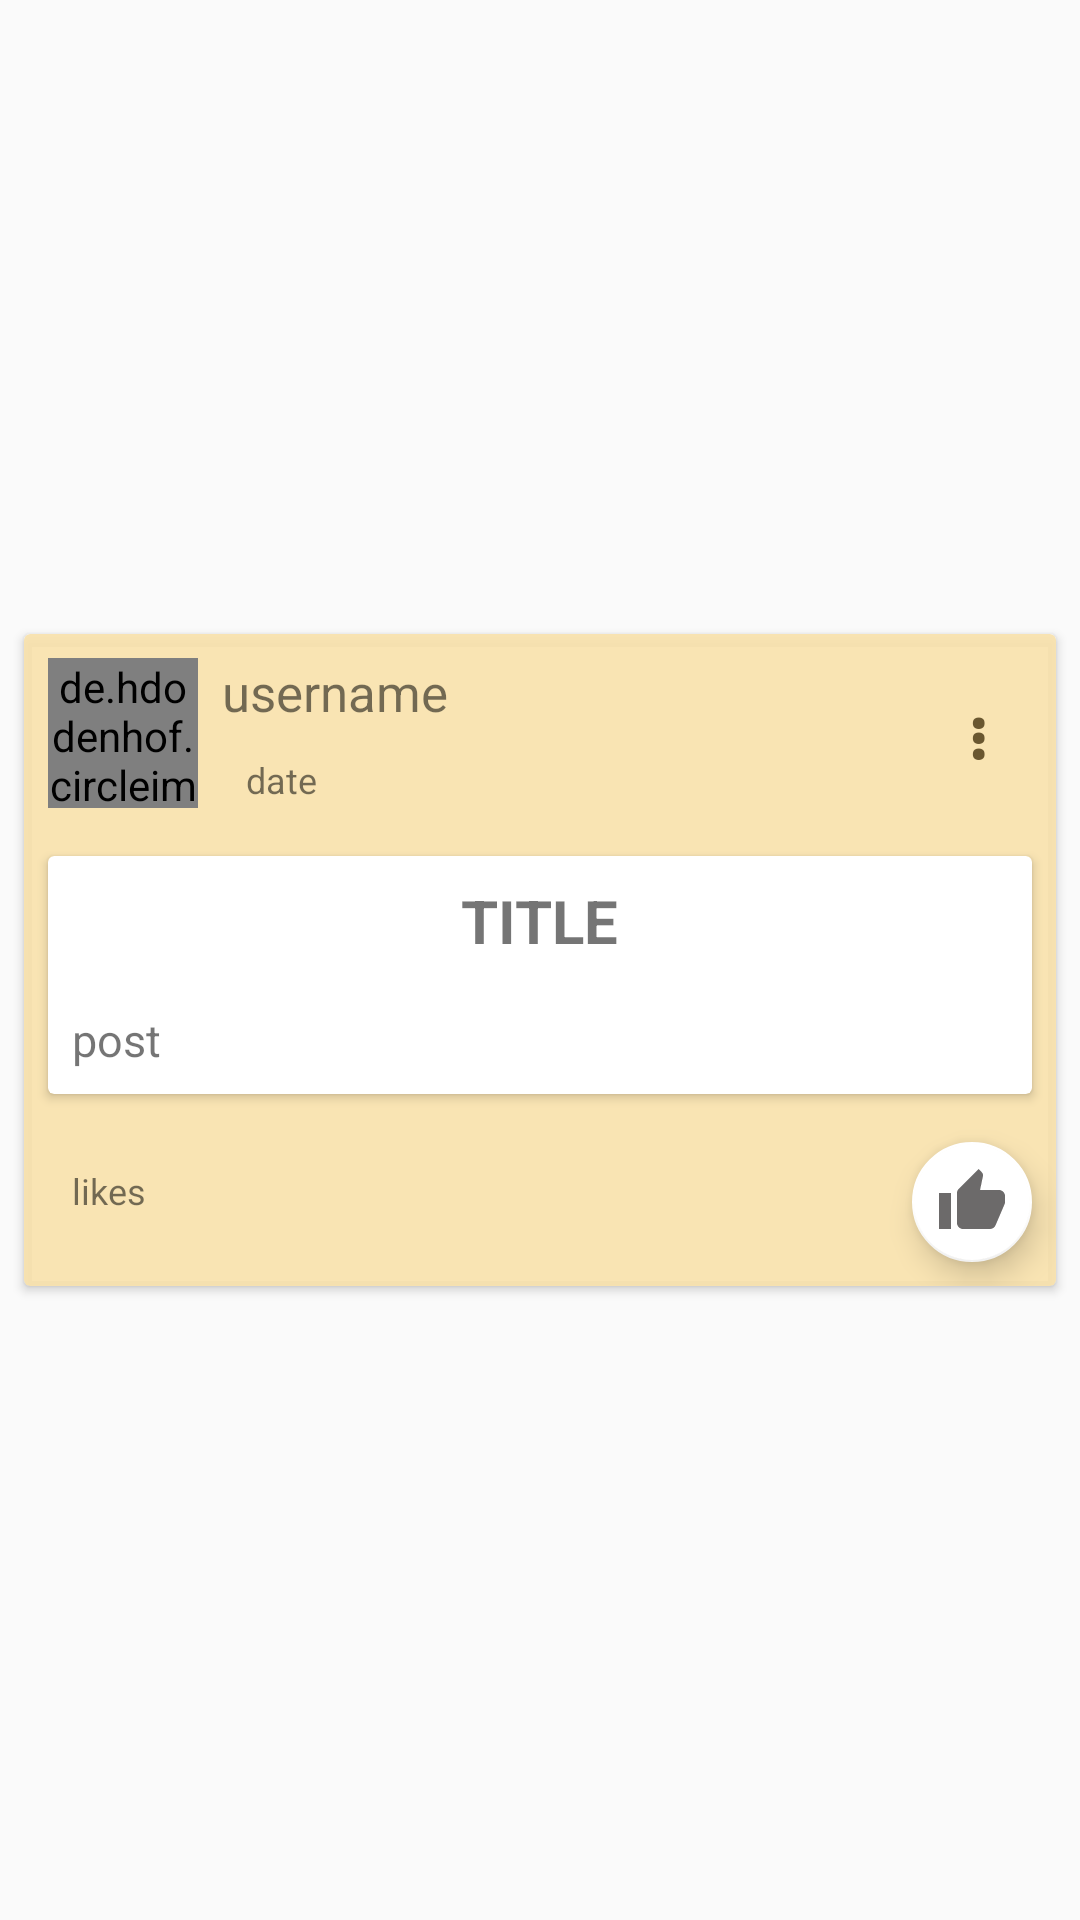

Icon bounding boxes for this 1080x1920 phone screenshot, format (x1, y1, x2, y2):
thumb up: (912, 1142, 1032, 1262)
